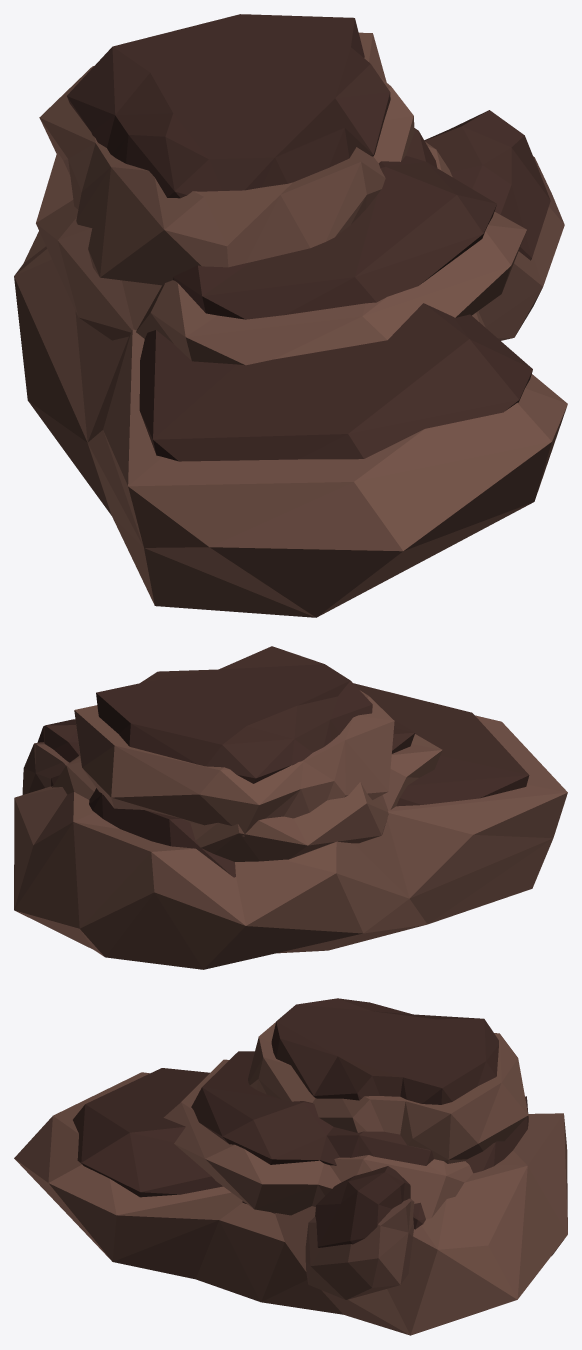
Rendered from Brown_rock_020.fbx.
The picture shows the model from 3 angles, top to bottom: view 1: azimuth 30°, elevation 25°; view 2: azimuth 150°, elevation 25°; view 3: azimuth 270°, elevation 25°; orthographic projection. The views are drawn at different scales.
Visible parts, largest first — view 1: Brown_rock_020; view 2: Brown_rock_020; view 3: Brown_rock_020.
Part boxes in pixels (x1,y1,x2,y2): Brown_rock_020: (14, 14, 567, 617); Brown_rock_020: (14, 646, 567, 969); Brown_rock_020: (14, 998, 567, 1335).
Bounding box in the file's own units: 989 × 1173 × 560.
